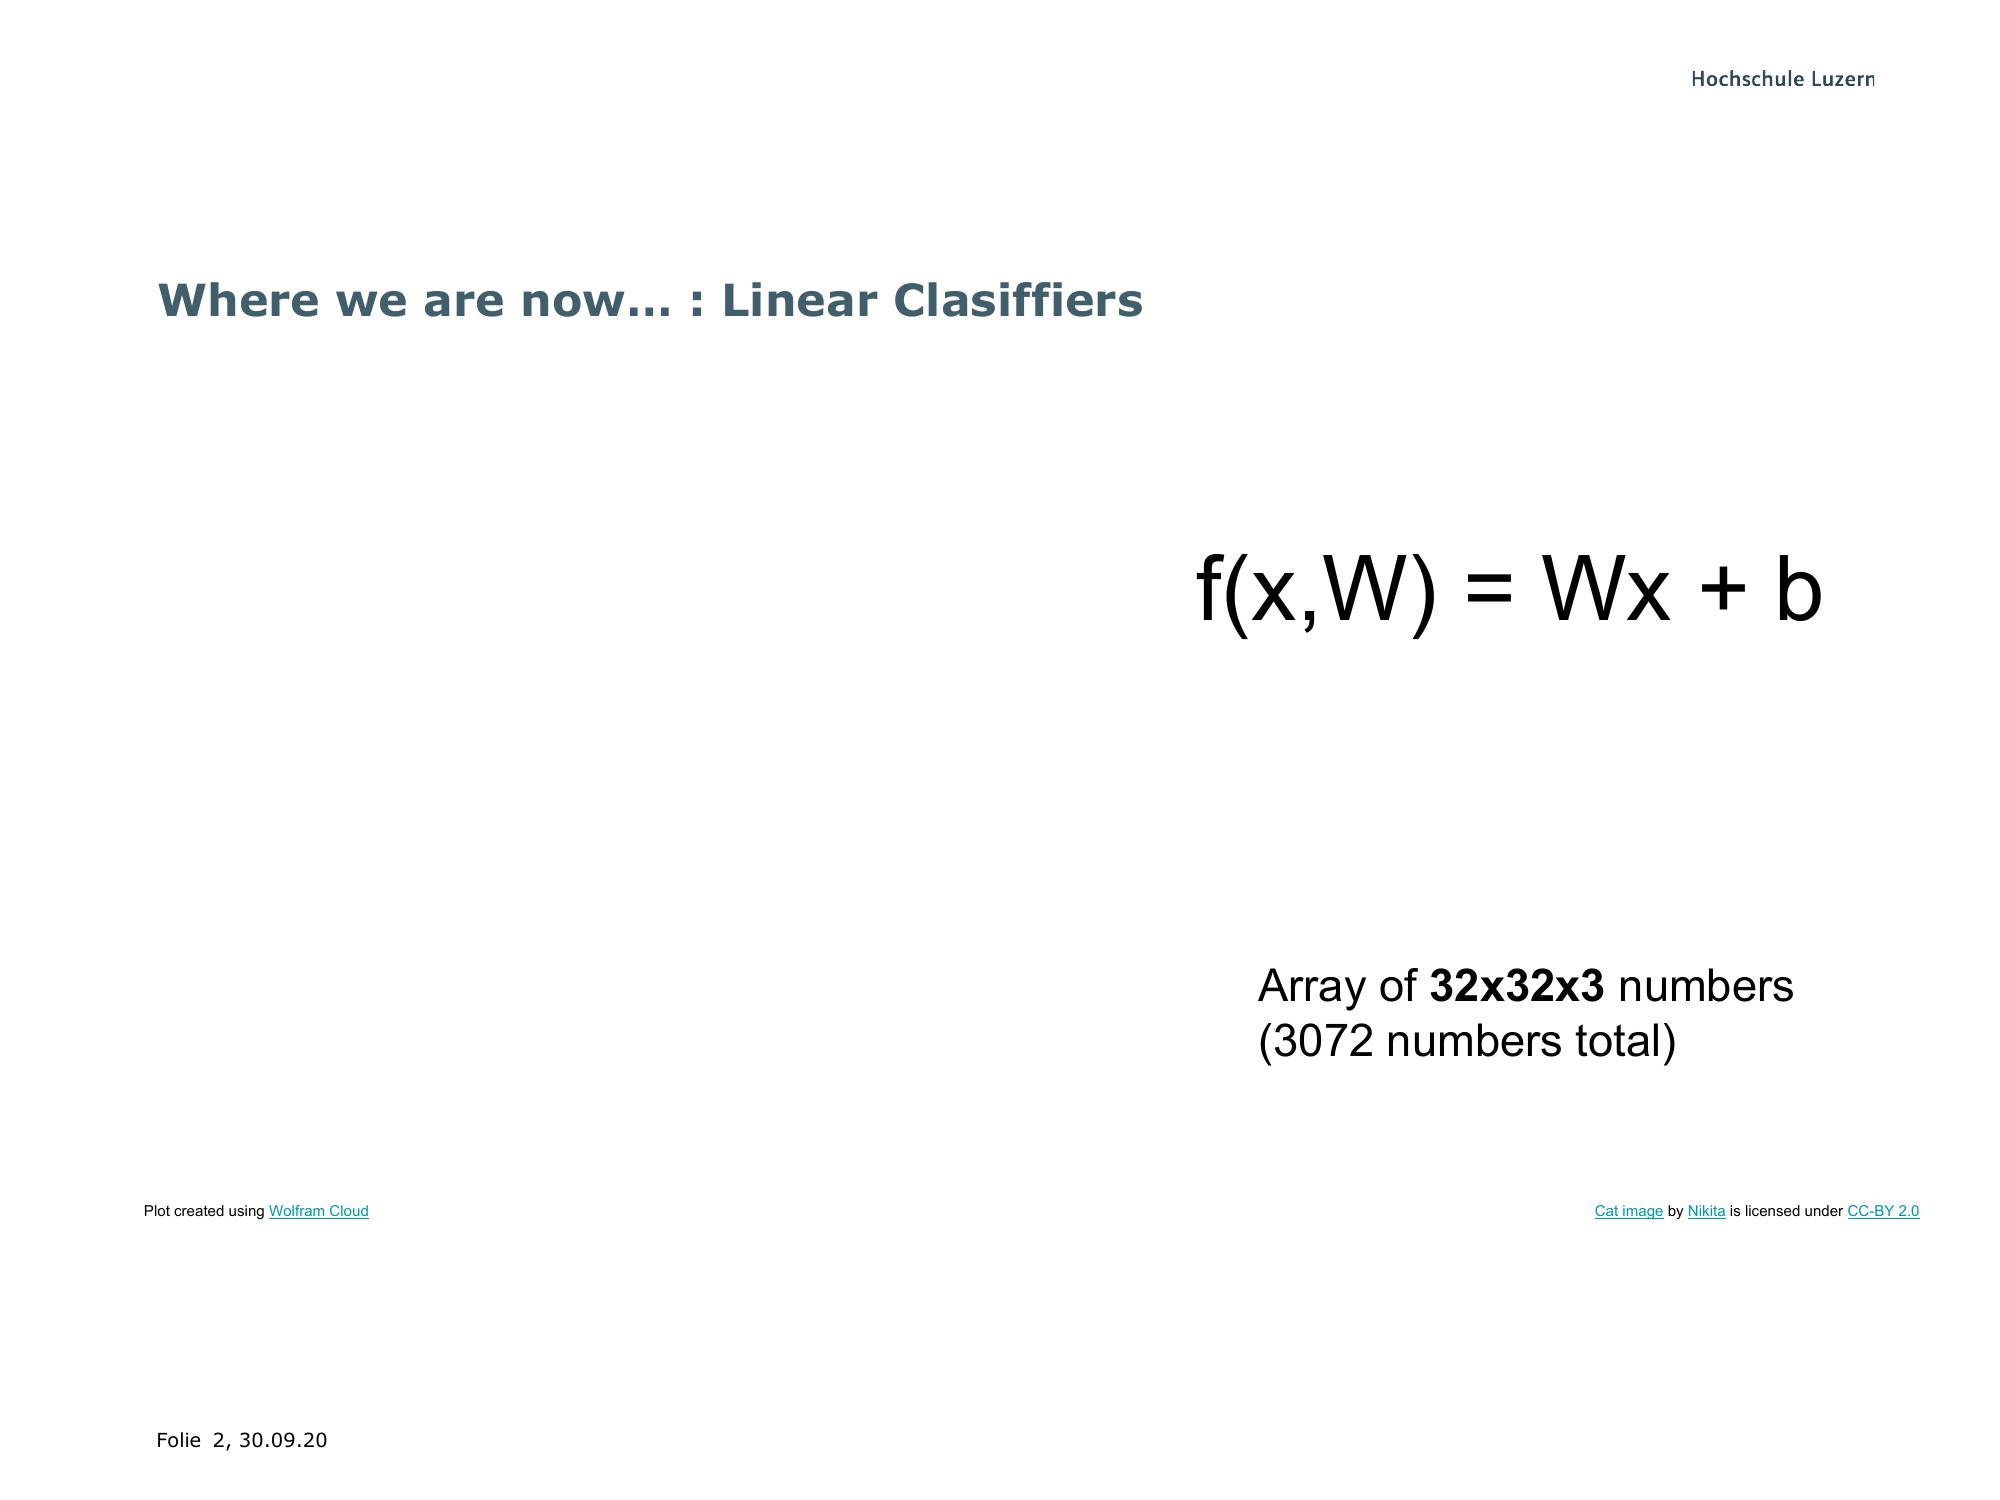Title: (161, 257, 1146, 347)
